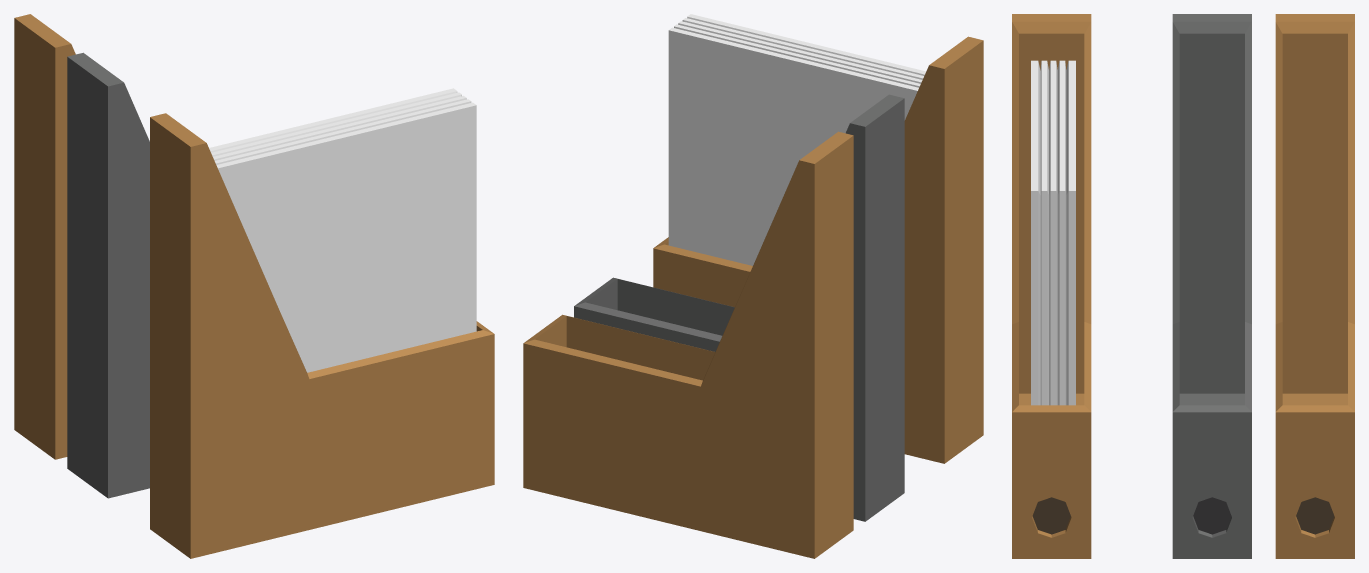
File: SM_Binder_04.glb
The picture shows the model from 3 angles, left to right: view 1: azimuth 30°, elevation 25°; view 2: azimuth 150°, elevation 25°; view 3: azimuth 270°, elevation 25°; orthographic projection. The views are drawn at different scales.
Visible parts, largest first — view 1: SM_Binder_04; view 2: SM_Binder_04; view 3: SM_Binder_04.
Boxes of the visible parts, bbox=[...] form: SM_Binder_04: bbox=[14, 14, 494, 558]; SM_Binder_04: bbox=[523, 14, 983, 558]; SM_Binder_04: bbox=[1012, 14, 1354, 558].
Bounding box in the file's own units: 0.2559 × 0.3316 × 0.2571.
Materials: 1 (1 with a texture image).
